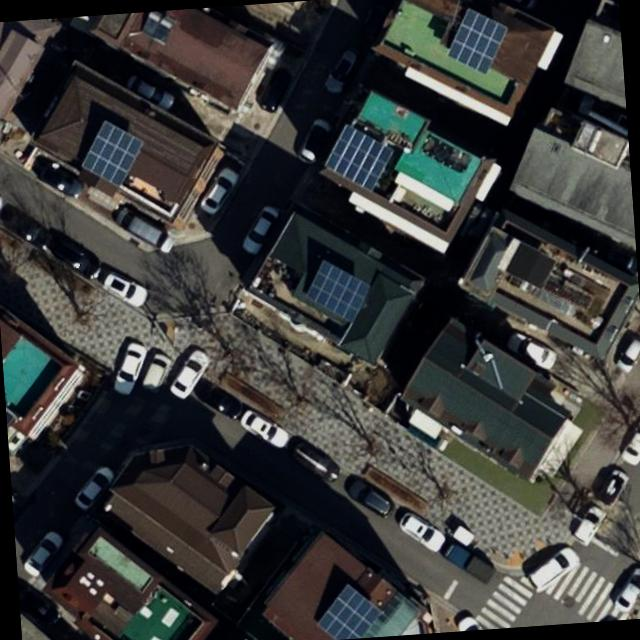solar: (320, 120, 398, 197), (76, 116, 150, 190), (302, 255, 376, 328), (442, 2, 508, 76), (309, 580, 385, 640)
